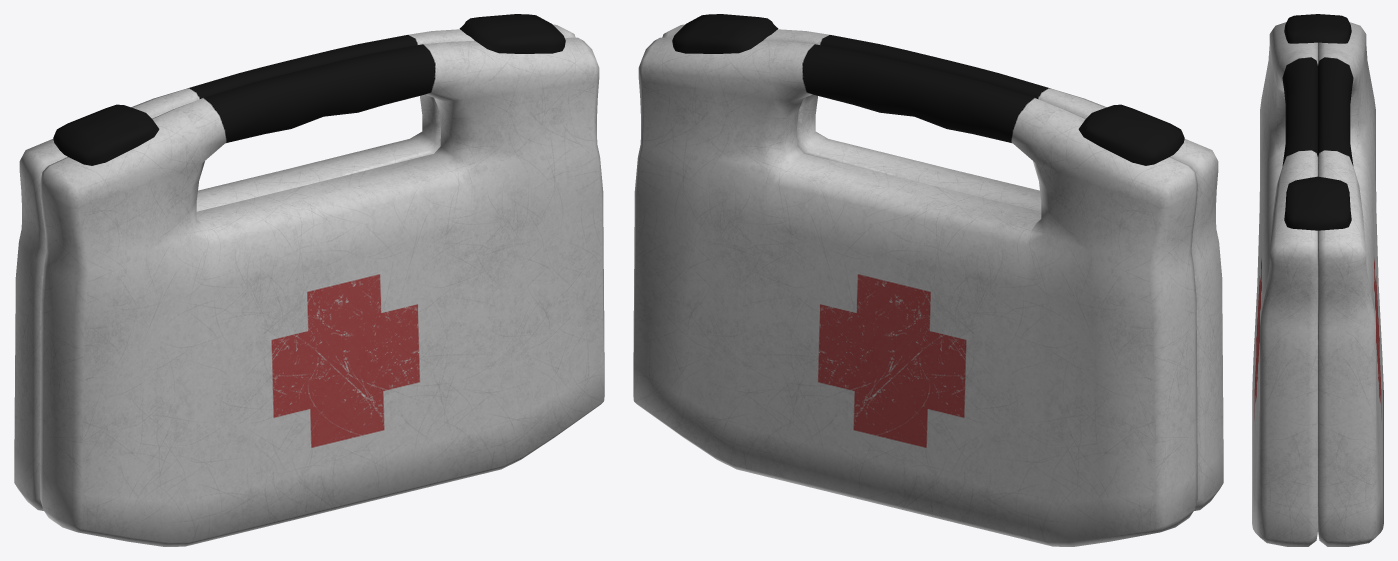
Rendered from medical_kit.glb.
The picture shows the model from 3 angles, left to right: view 1: azimuth 30°, elevation 25°; view 2: azimuth 150°, elevation 25°; view 3: azimuth 270°, elevation 25°; orthographic projection. The views are drawn at different scales.
Parts seen in each view (by area): view 1: Object_2; view 2: Object_2; view 3: Object_2.
Part boxes in pixels (left/top/right/bottom): Object_2: left=14, top=14, right=604, bottom=546; Object_2: left=633, top=14, right=1223, bottom=546; Object_2: left=1252, top=14, right=1383, bottom=546.
Bounding box in the file's own units: 1.32 × 0.9806 × 0.3183.
1 material, 1 textured.
